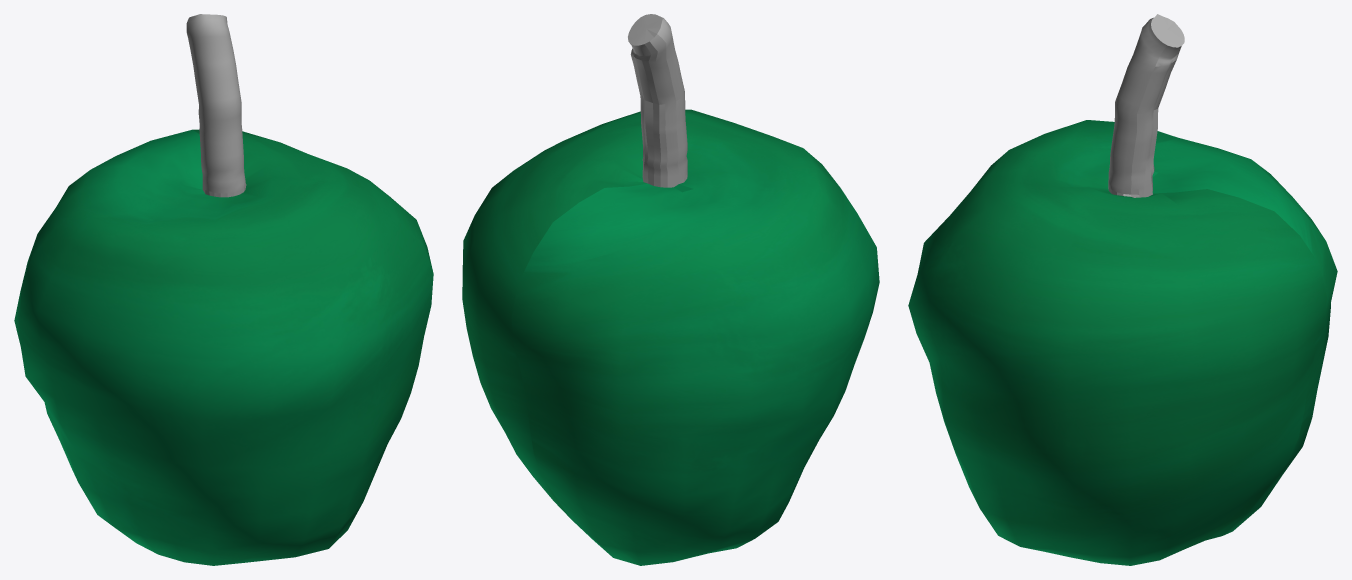
Rendered from SM_Apple_Low.fbx.
3 renders of one model, left to right at view 1: azimuth 30°, elevation 25°; view 2: azimuth 150°, elevation 25°; view 3: azimuth 270°, elevation 25°, orthographic. The views are drawn at different scales.
Parts seen in each view (by area): view 1: SM_Apple_Low; view 2: SM_Apple_Low; view 3: SM_Apple_Low.
Boxes of the visible parts, x1=… form: SM_Apple_Low: x1=14, y1=14, x2=433, y2=565; SM_Apple_Low: x1=462, y1=14, x2=879, y2=565; SM_Apple_Low: x1=908, y1=14, x2=1337, y2=565.
Bounding box in the file's own units: 0.8464 × 1.16 × 0.8617.
